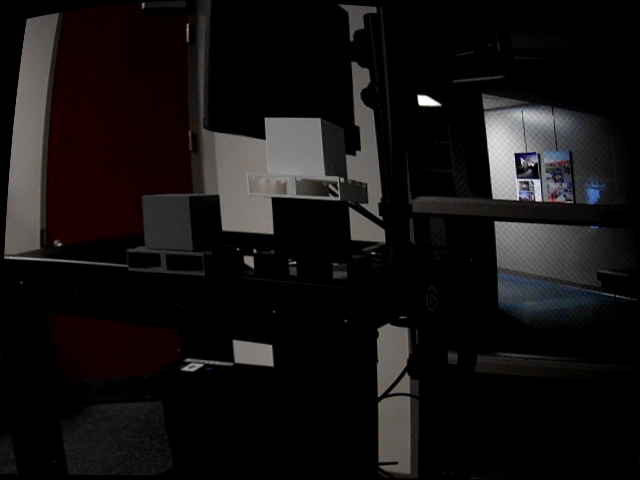black pallet: (249, 195, 378, 283)
grey pallet: (122, 186, 242, 278)
white pallet: (245, 115, 370, 205)
